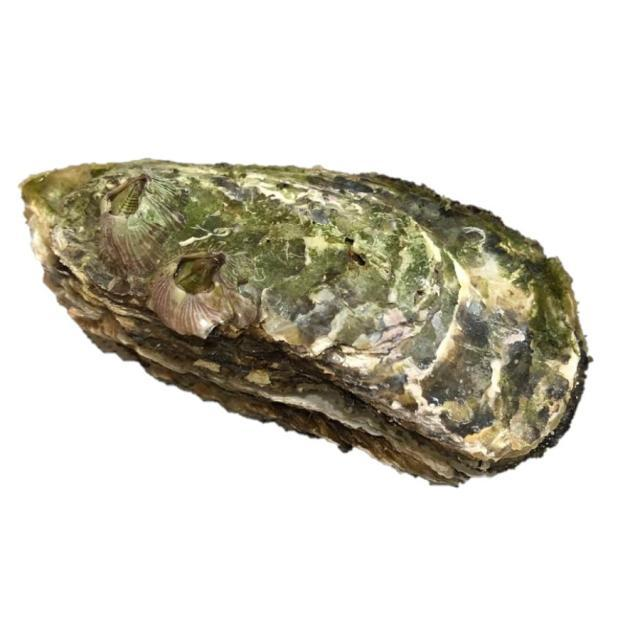Oyster- Indeterminate: (19, 160, 593, 489)
